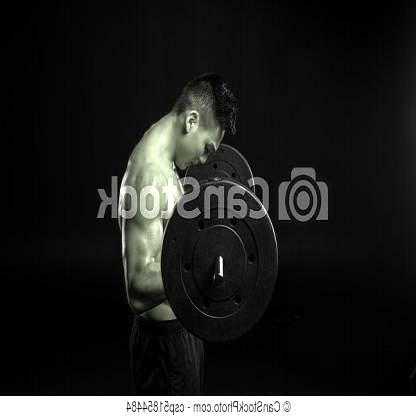Barbell: (199, 248, 230, 294)
